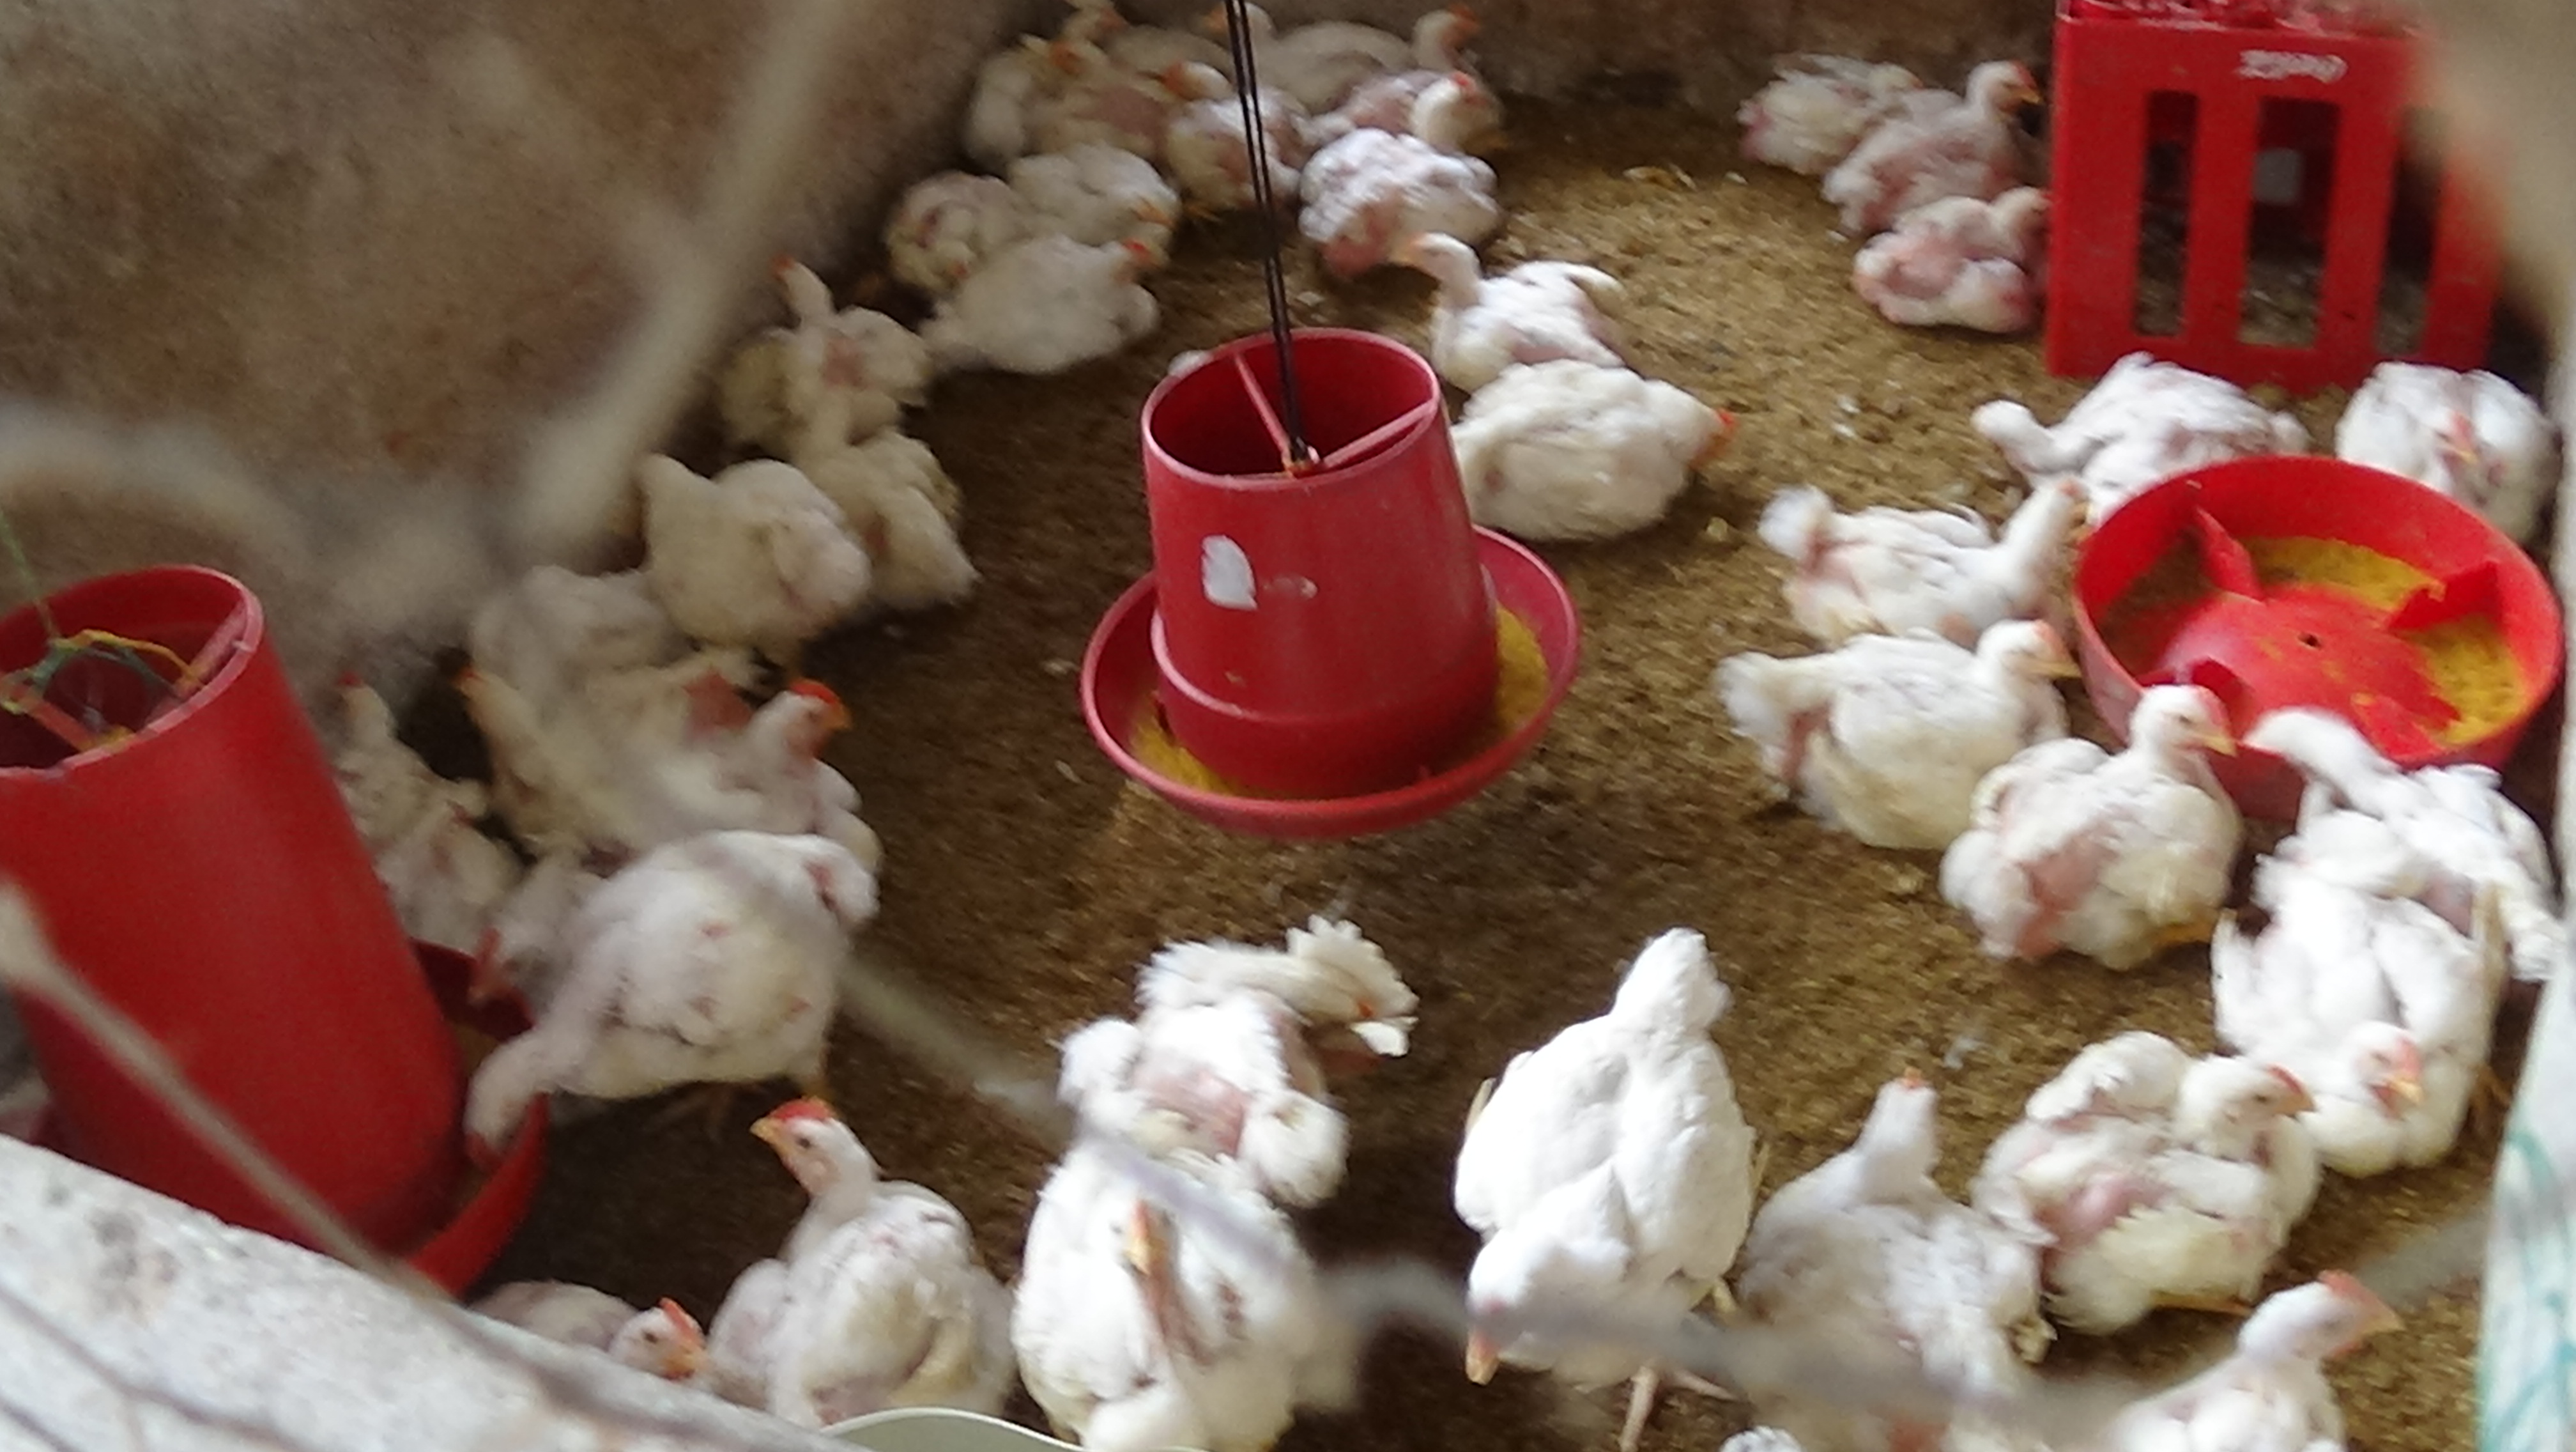Pollos: (1426, 924, 1771, 1452), (432, 818, 911, 1160), (1024, 1015, 1350, 1434), (2236, 765, 2532, 1160), (711, 1078, 1021, 1452), (1990, 1036, 2325, 1333), (1732, 607, 2084, 862), (1932, 666, 2249, 944), (1787, 1048, 2033, 1395), (2063, 1222, 2406, 1452), (1741, 446, 2105, 641), (778, 335, 1021, 616), (432, 517, 678, 793), (1407, 340, 1732, 531), (1982, 347, 2304, 531), (621, 453, 893, 659), (462, 1236, 720, 1450), (596, 684, 876, 862), (2334, 344, 2565, 544), (301, 653, 487, 900), (1808, 51, 2054, 230), (1300, 60, 1513, 251), (927, 225, 1203, 365), (1845, 170, 2063, 336), (736, 237, 948, 407), (1371, 212, 1617, 358), (994, 122, 1215, 262), (1288, 9, 1507, 124), (1143, 60, 1306, 198), (1024, 21, 1189, 149), (1748, 57, 1923, 174), (872, 152, 1012, 276)
